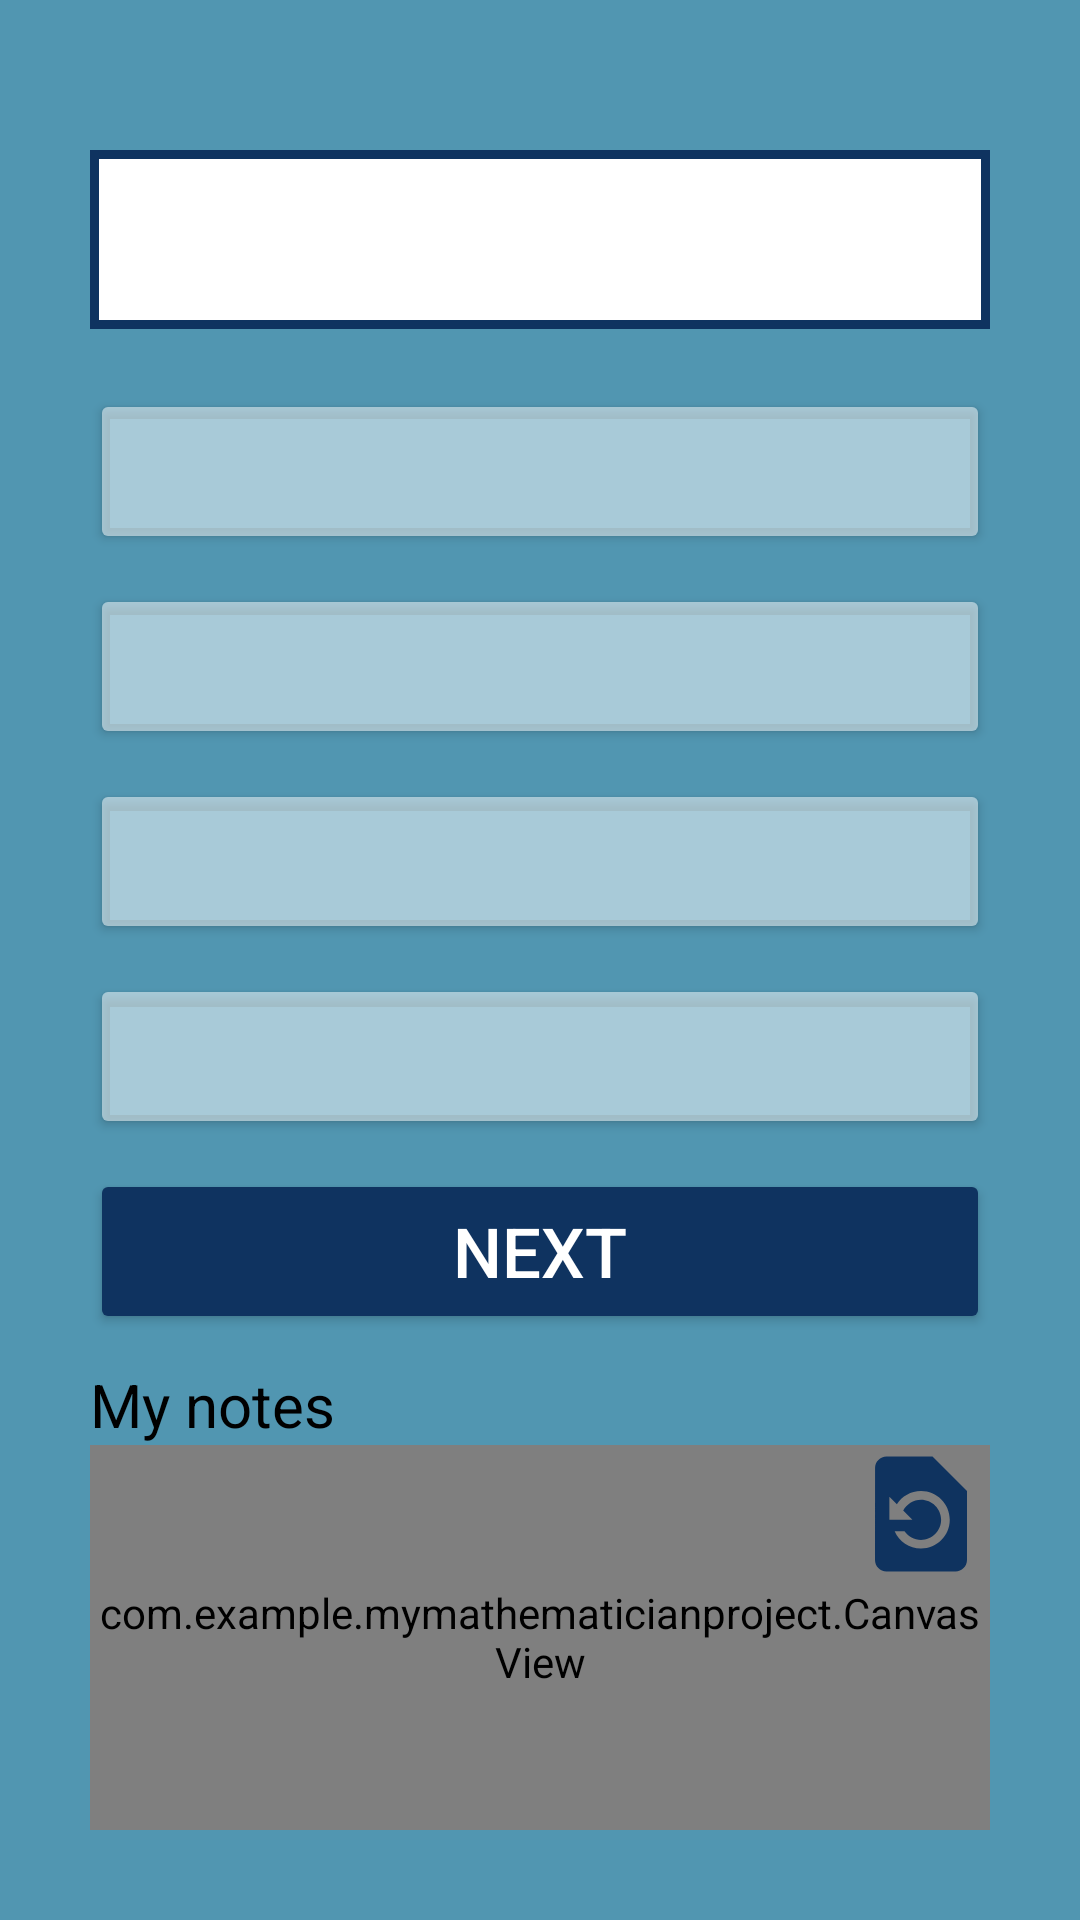

Icon bounding boxes for this 1080 × 1920 phone screenshot, format (x1, y1, x2, y2):
restore page: (875, 1456, 967, 1572)
